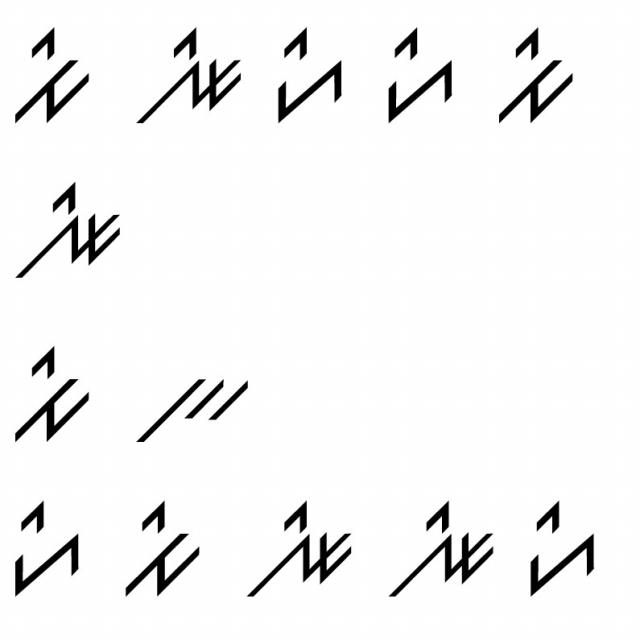hi: (514, 494, 603, 604), (258, 20, 348, 127), (6, 493, 90, 604), (379, 16, 464, 125)
mbi: (12, 21, 99, 134), (7, 338, 94, 446), (116, 498, 204, 603), (498, 20, 584, 126)
ndi: (383, 488, 498, 607), (10, 180, 128, 290), (133, 21, 244, 134), (240, 496, 356, 604)
